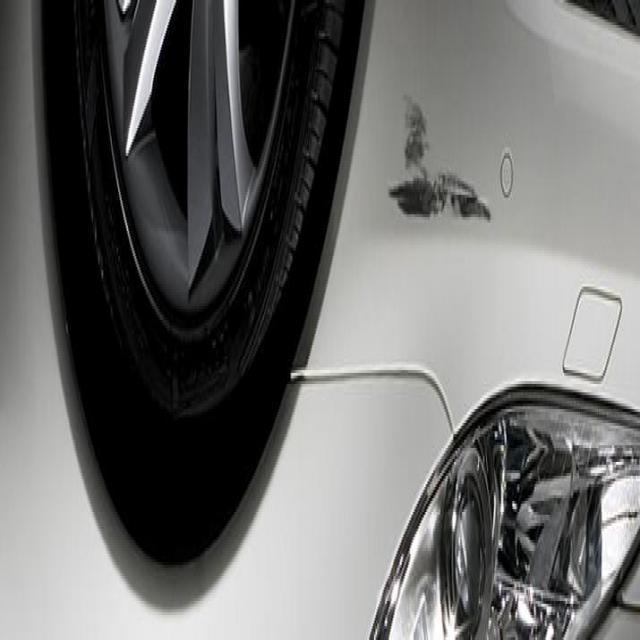scratch: (378, 82, 495, 291)
